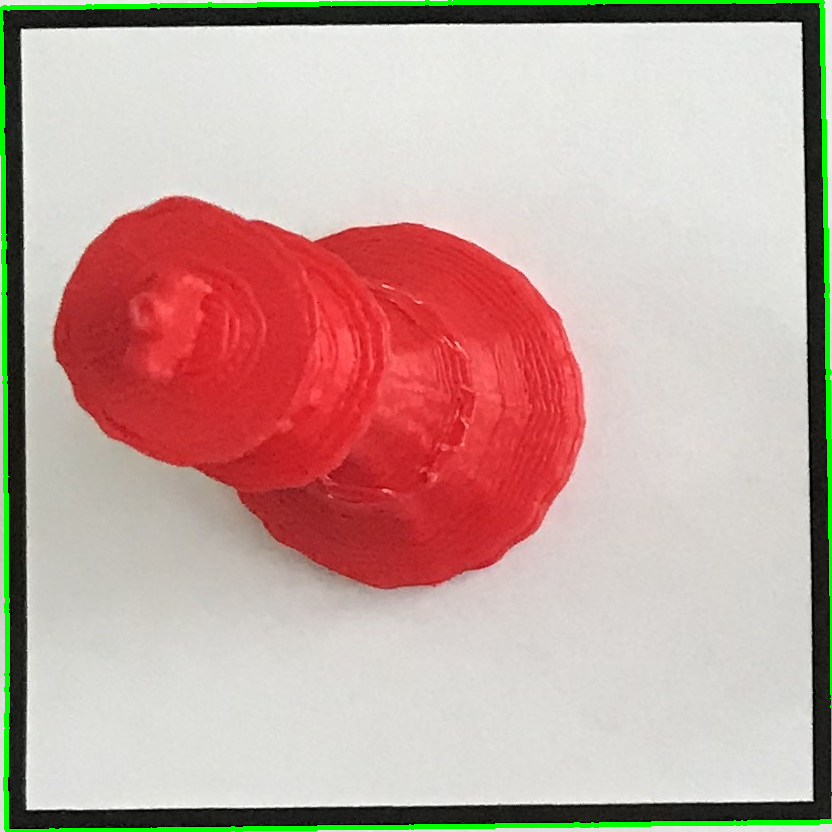Red King: (41, 144, 615, 629)
